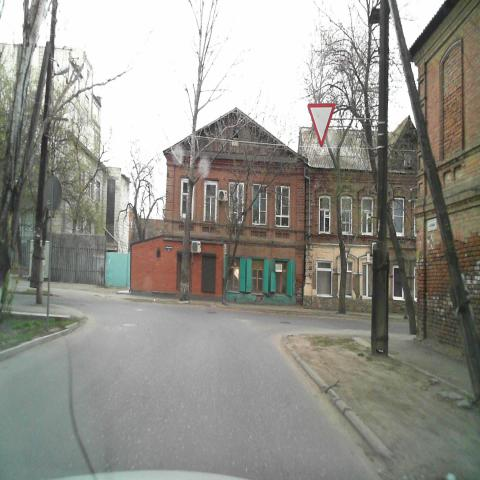2_4: (307, 101, 337, 149)
